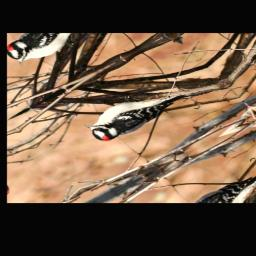Woodpecker: (78, 75, 193, 147)
